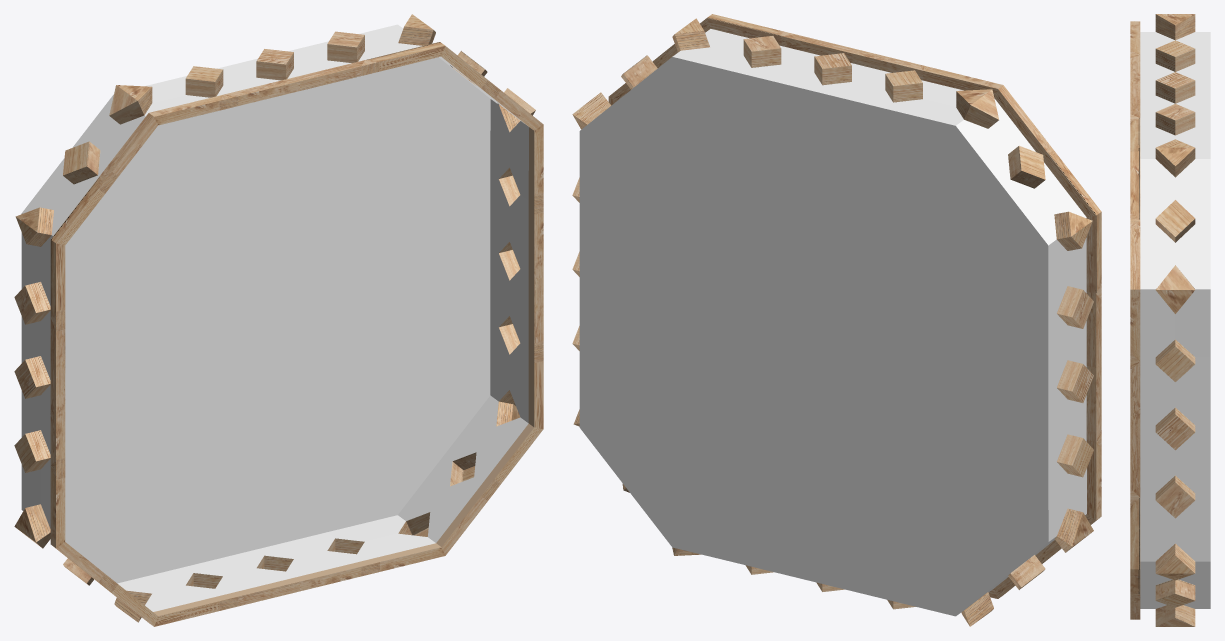
Rendered from module 5(roof).obj.
The picture shows the model from 3 angles, left to right: view 1: azimuth 30°, elevation 25°; view 2: azimuth 150°, elevation 25°; view 3: azimuth 270°, elevation 25°; orthographic projection. The views are drawn at different scales.
Visible parts, largest first — view 1: module_5; view 2: module_5; view 3: module_5.
Part boxes in pixels (x1=…): module_5: x1=14, y1=14, x2=543, y2=626; module_5: x1=572, y1=14, x2=1101, y2=626; module_5: x1=1130, y1=14, x2=1210, y2=626.
Size of the model in its own units: 0.1597 by 0.1597 by 0.0242.
2 materials, 2 textured.
